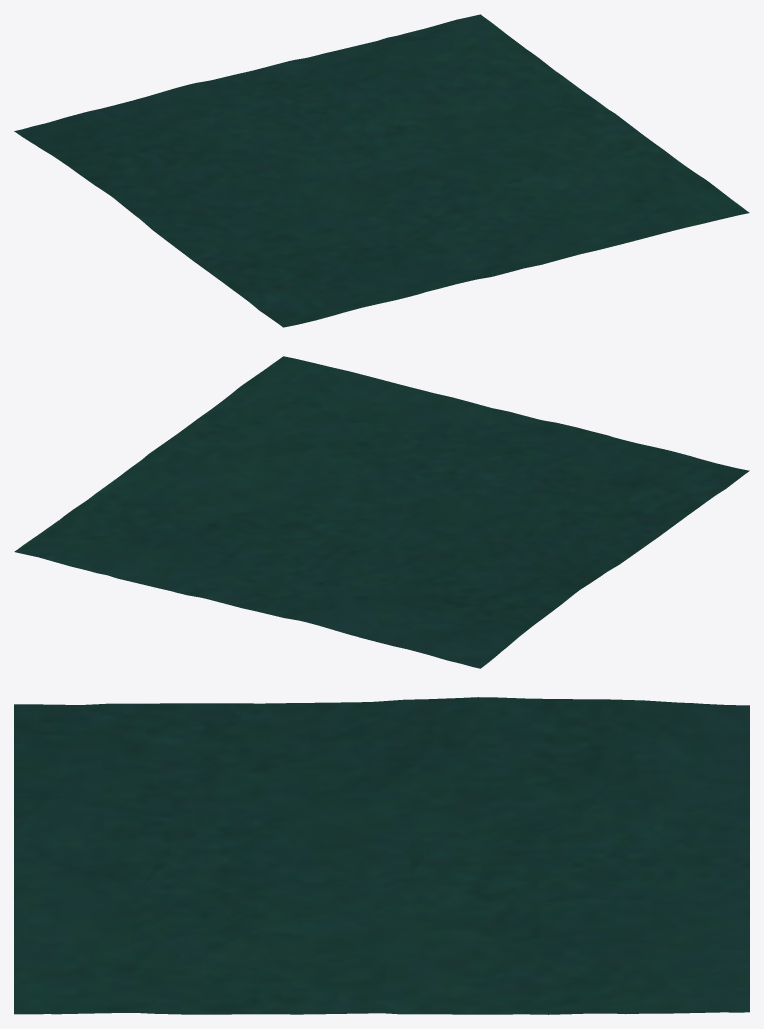
3 views of the same model, one above another, from view 1: azimuth 30°, elevation 25°; view 2: azimuth 150°, elevation 25°; view 3: azimuth 270°, elevation 25° (orthographic). The views are drawn at different scales.
Bounding box in the file's own units: 52.22 × 0.7436 × 52.22.
2 materials, 2 textured.
